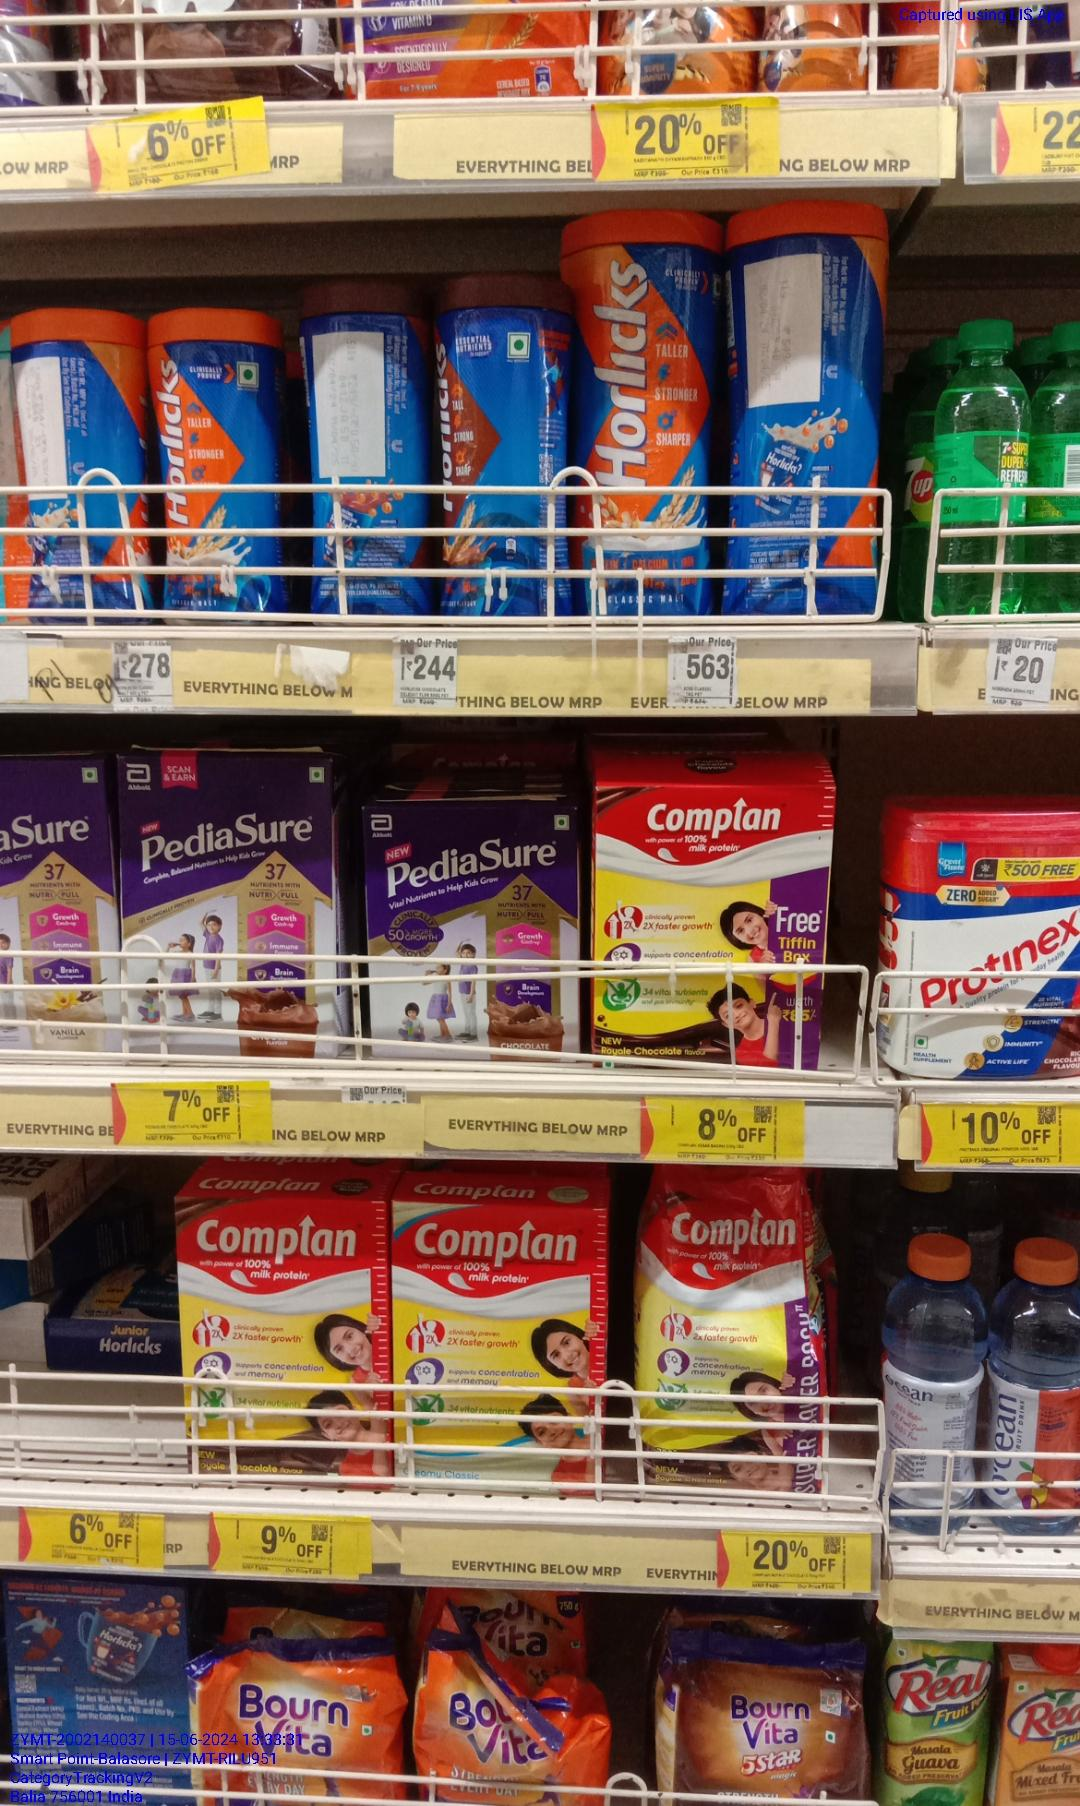BOURN_VITA_500_G_POUCH: (194, 1653, 400, 1806)
BOURN_VITA_FIVE_STAR_MAGIC_500_G_POUCH: (671, 1634, 860, 1806)
COMPLAN_CHOCOLATE_500_GMS_PACK: (595, 788, 823, 1066), (181, 1195, 387, 1478)
COMPLAN_CREAMY_CLASSIC_500_G_PACK: (396, 1202, 607, 1492)
COMPLAN_RC_POUCH_700_GMS_12: (633, 1168, 824, 1496)
HORLICK_CLASSIC_MALT_200_G_JAR: (150, 312, 285, 621)
HORLICK_CLASSIC_MALT_500_G_JAR: (575, 219, 714, 618)
PEDIASURE_CHOCOLATE_500_G_PACK: (126, 753, 342, 1057)
PROTINEX_CHOCOLATE_400_G_JAR: (879, 800, 1080, 1078)
